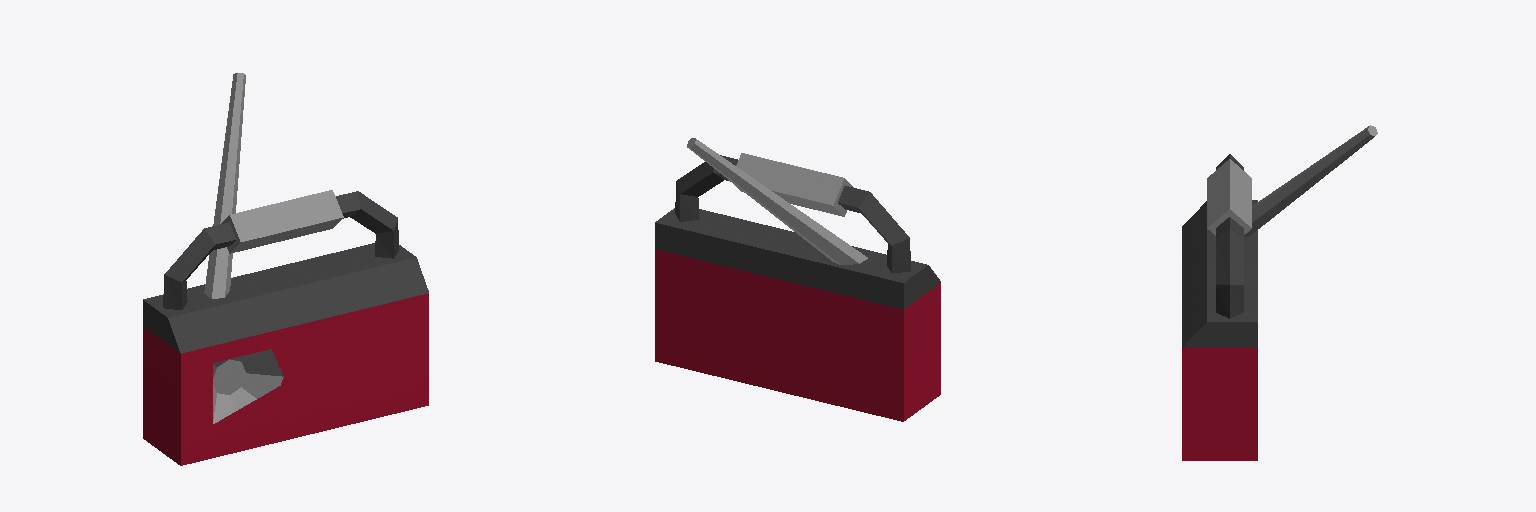
3 views of the same model, side by side, from view 1: azimuth 30°, elevation 25°; view 2: azimuth 150°, elevation 25°; view 3: azimuth 270°, elevation 25° (orthographic).
Visible parts, largest first — view 1: Plane_Plane.001; view 2: Plane_Plane.001; view 3: Plane_Plane.001.
Boxes of the visible parts, <box> form: Plane_Plane.001: <box>143,73,428,465</box>; Plane_Plane.001: <box>655,138,940,421</box>; Plane_Plane.001: <box>1182,125,1377,460</box>.
Bounding box in the file's own units: 1.01 × 1.11 × 0.6866.
Materials: 1 (1 with a texture image).